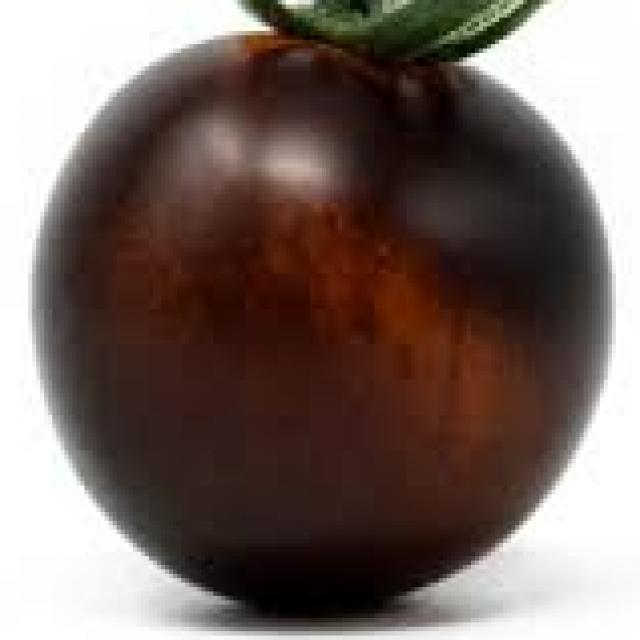Healthy: (29, 6, 634, 640)
